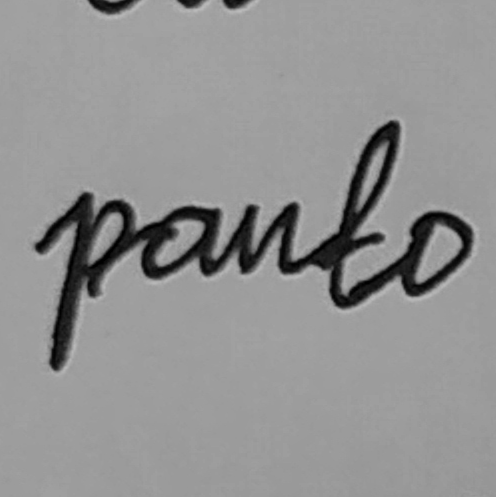a: (136, 201, 224, 284)
n: (227, 193, 308, 283)
o: (392, 204, 477, 299)
p: (36, 187, 140, 375)
t: (317, 113, 405, 313)
